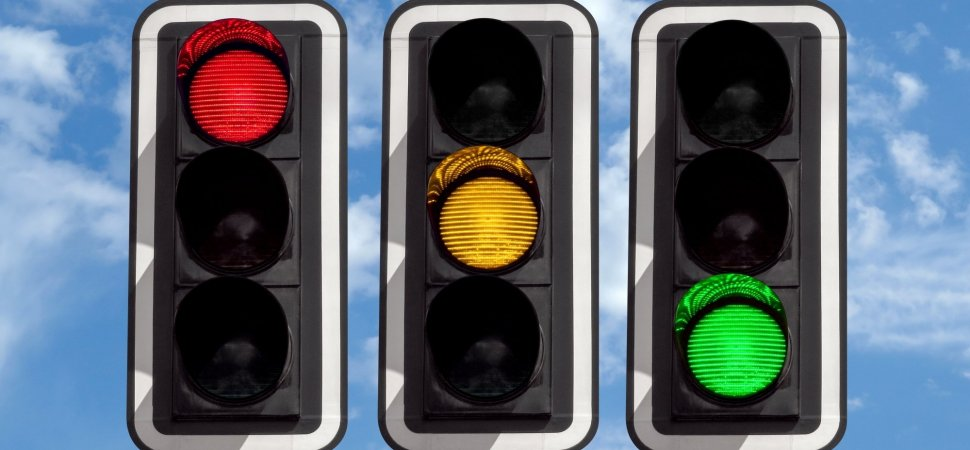trafic: (148, 15, 320, 432), (403, 17, 575, 434), (654, 15, 826, 432)
